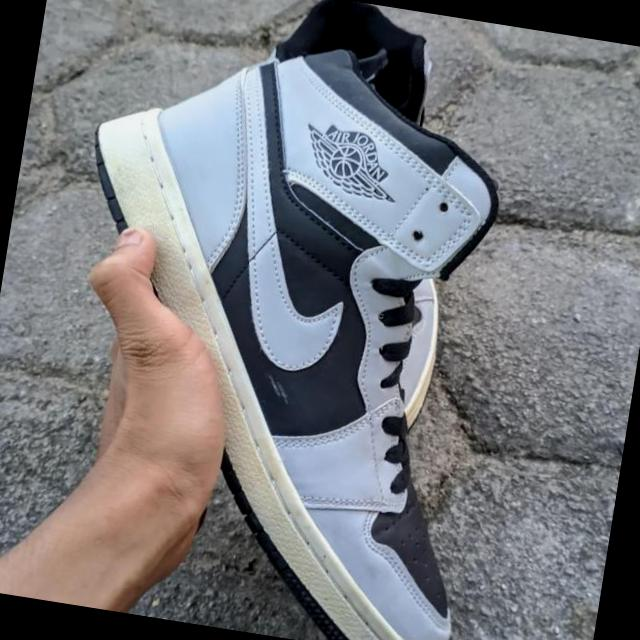nike_fake_jordan: (30, 3, 537, 640)
